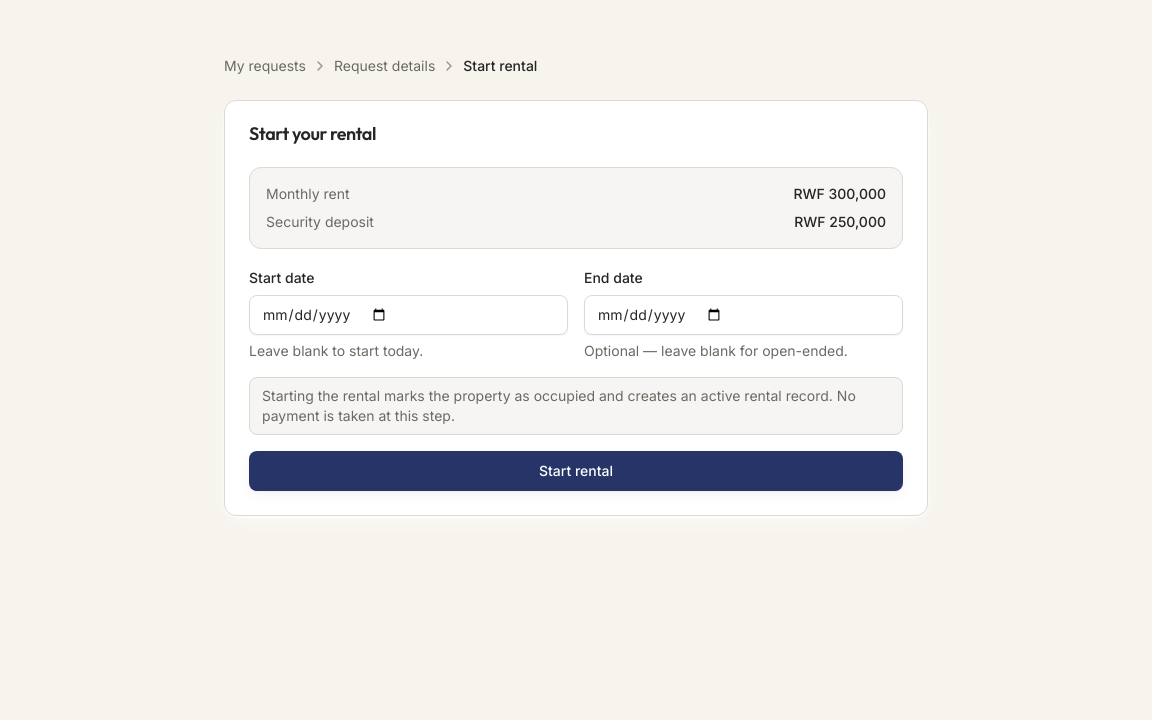
Test: rental conversion › handles PROPERTY_NOT_AVAILABLE safely
Click the button "Start rental" at (576, 471), box [249,451,903,491]
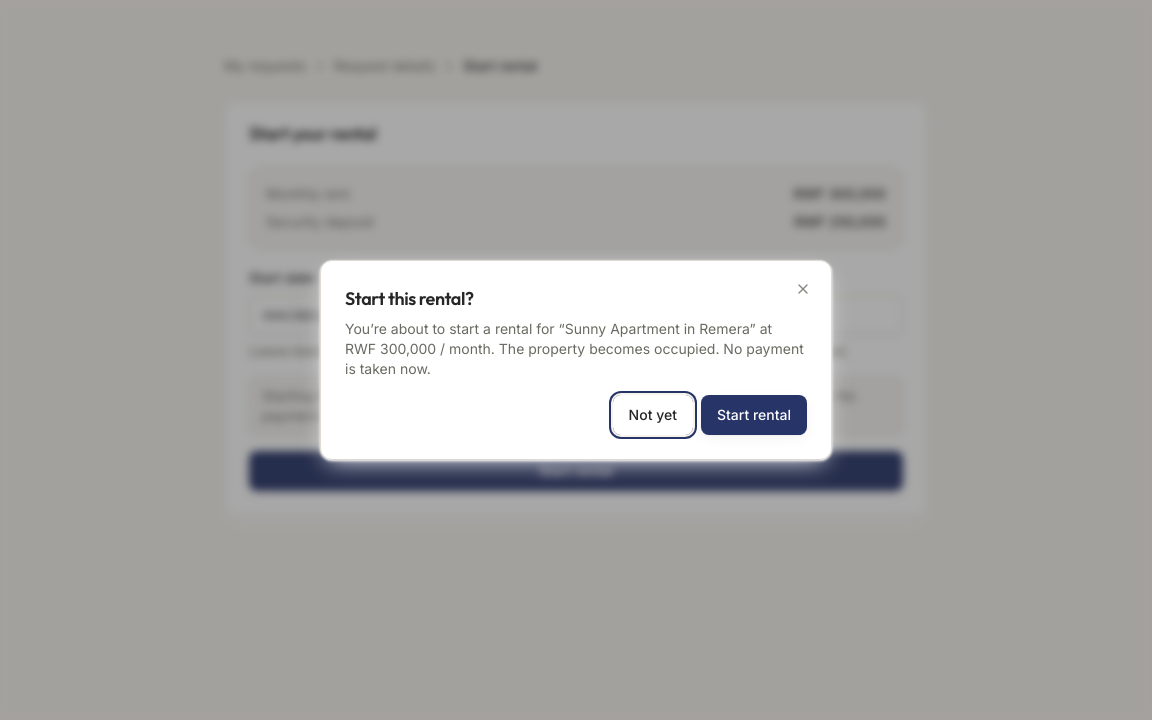
Click the button "Start rental" at (754, 415), box [701,395,807,435]
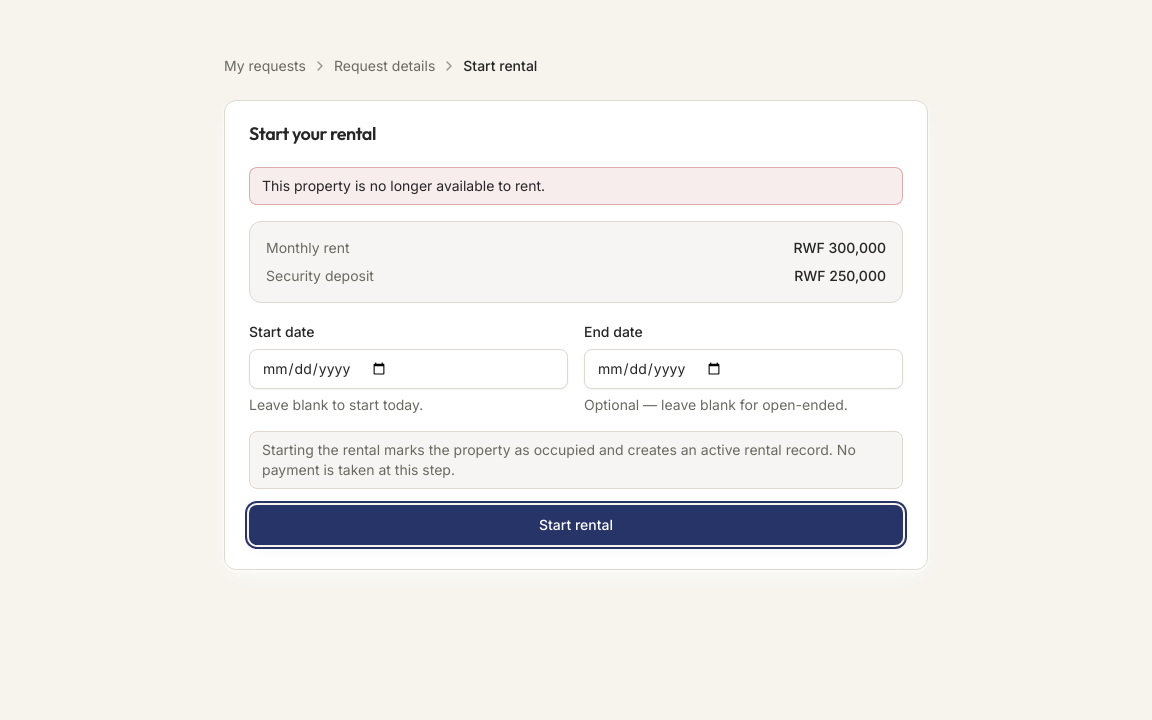
Expected: the text "This property is no longer available to rent." is shown, [249,167,903,205]
